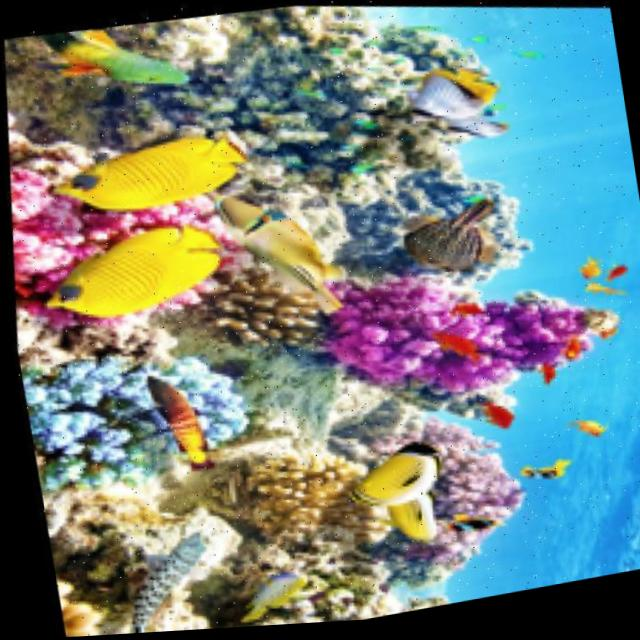Healthy Coral: (109, 0, 564, 289), (301, 205, 640, 472), (2, 79, 269, 378), (319, 349, 590, 626), (9, 286, 286, 533), (210, 412, 418, 625), (173, 235, 343, 381)
